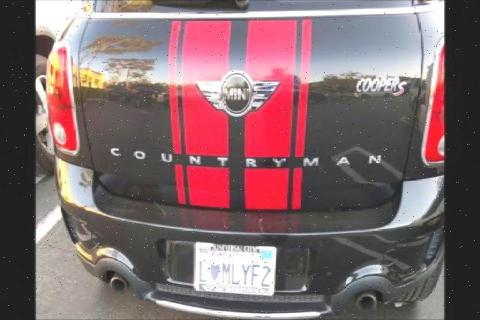LicensePlate: (192, 241, 278, 297)
